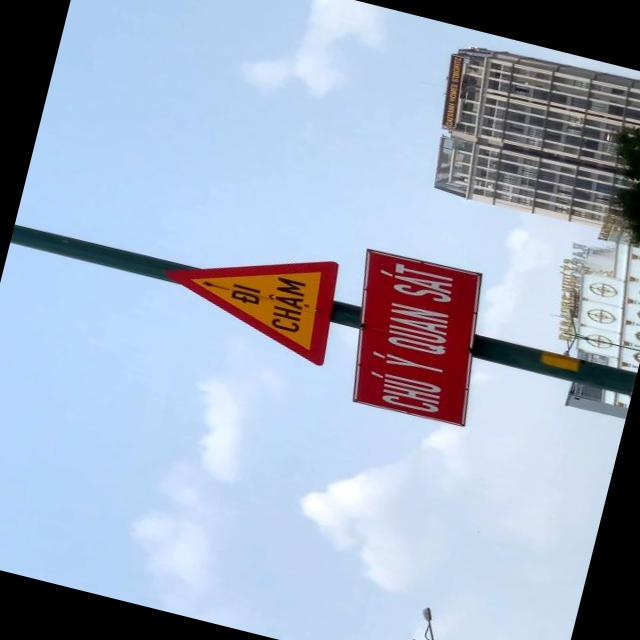W-245a: (152, 220, 346, 366)
